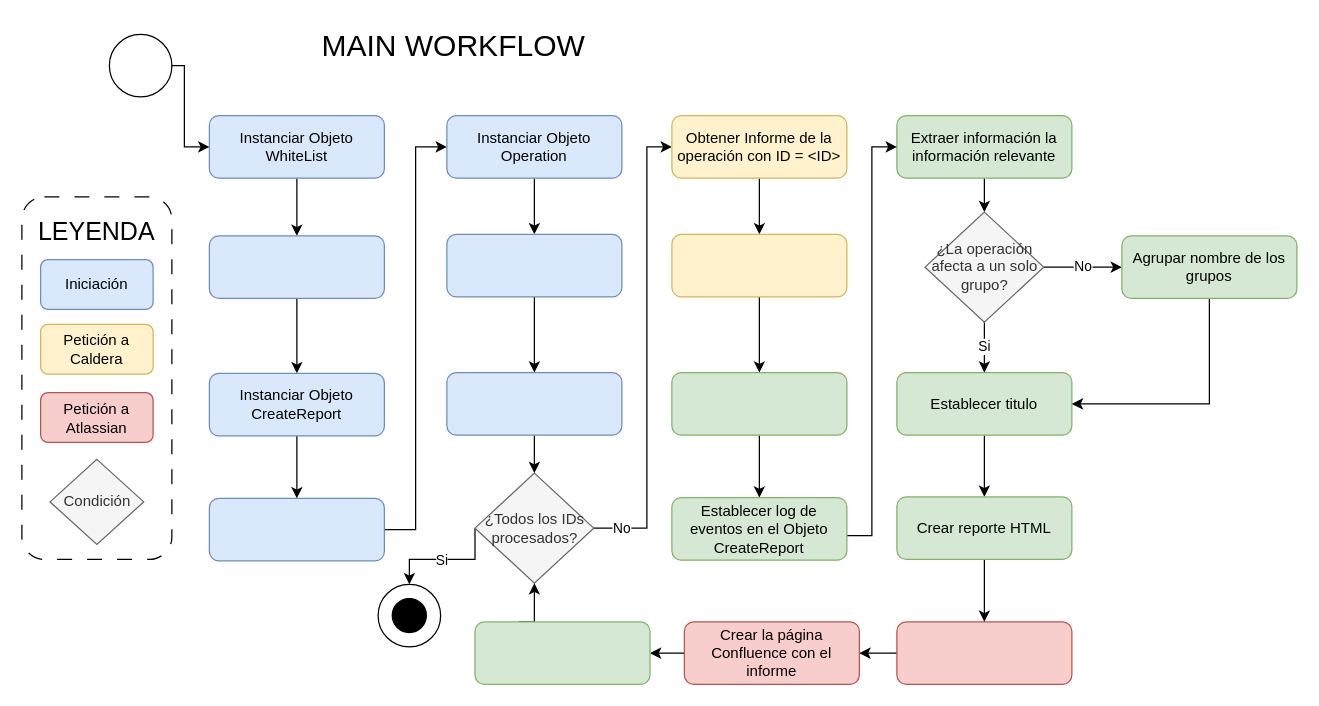
Image size: 1319x706. Some labels were removed from this diagram. Here are the shapes that lost their labels. From the top down, the box of each, then its label:
(208, 235, 384, 298): Iniciálizar WhiteList
(446, 233, 622, 297): Obtener id de las nuevas operaciones
(671, 233, 847, 297): Obtener log de eventos de la operación con ID = <ID>
(446, 371, 622, 435): Instanciar Objeto Jira
(671, 371, 847, 435): Establecer reporte en el Objeto CreateReport
(208, 497, 384, 561): Instanciar Objeto CreatePage
(474, 621, 650, 684): Eliminar la operación con ID = <ID>
(896, 621, 1072, 684): Crear los tickets en Jira
